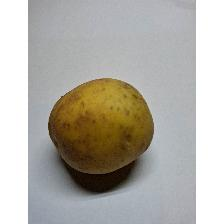Kartoffel: (46, 72, 154, 176)
